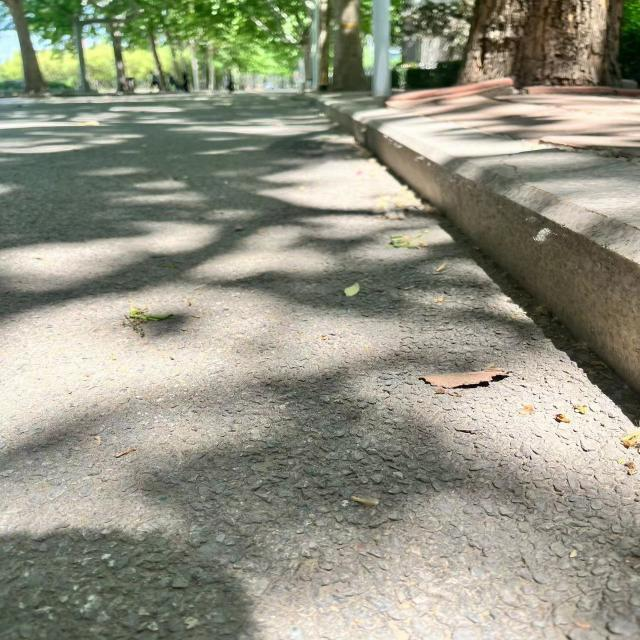bump: (470, 149, 640, 409), (374, 112, 508, 244)
